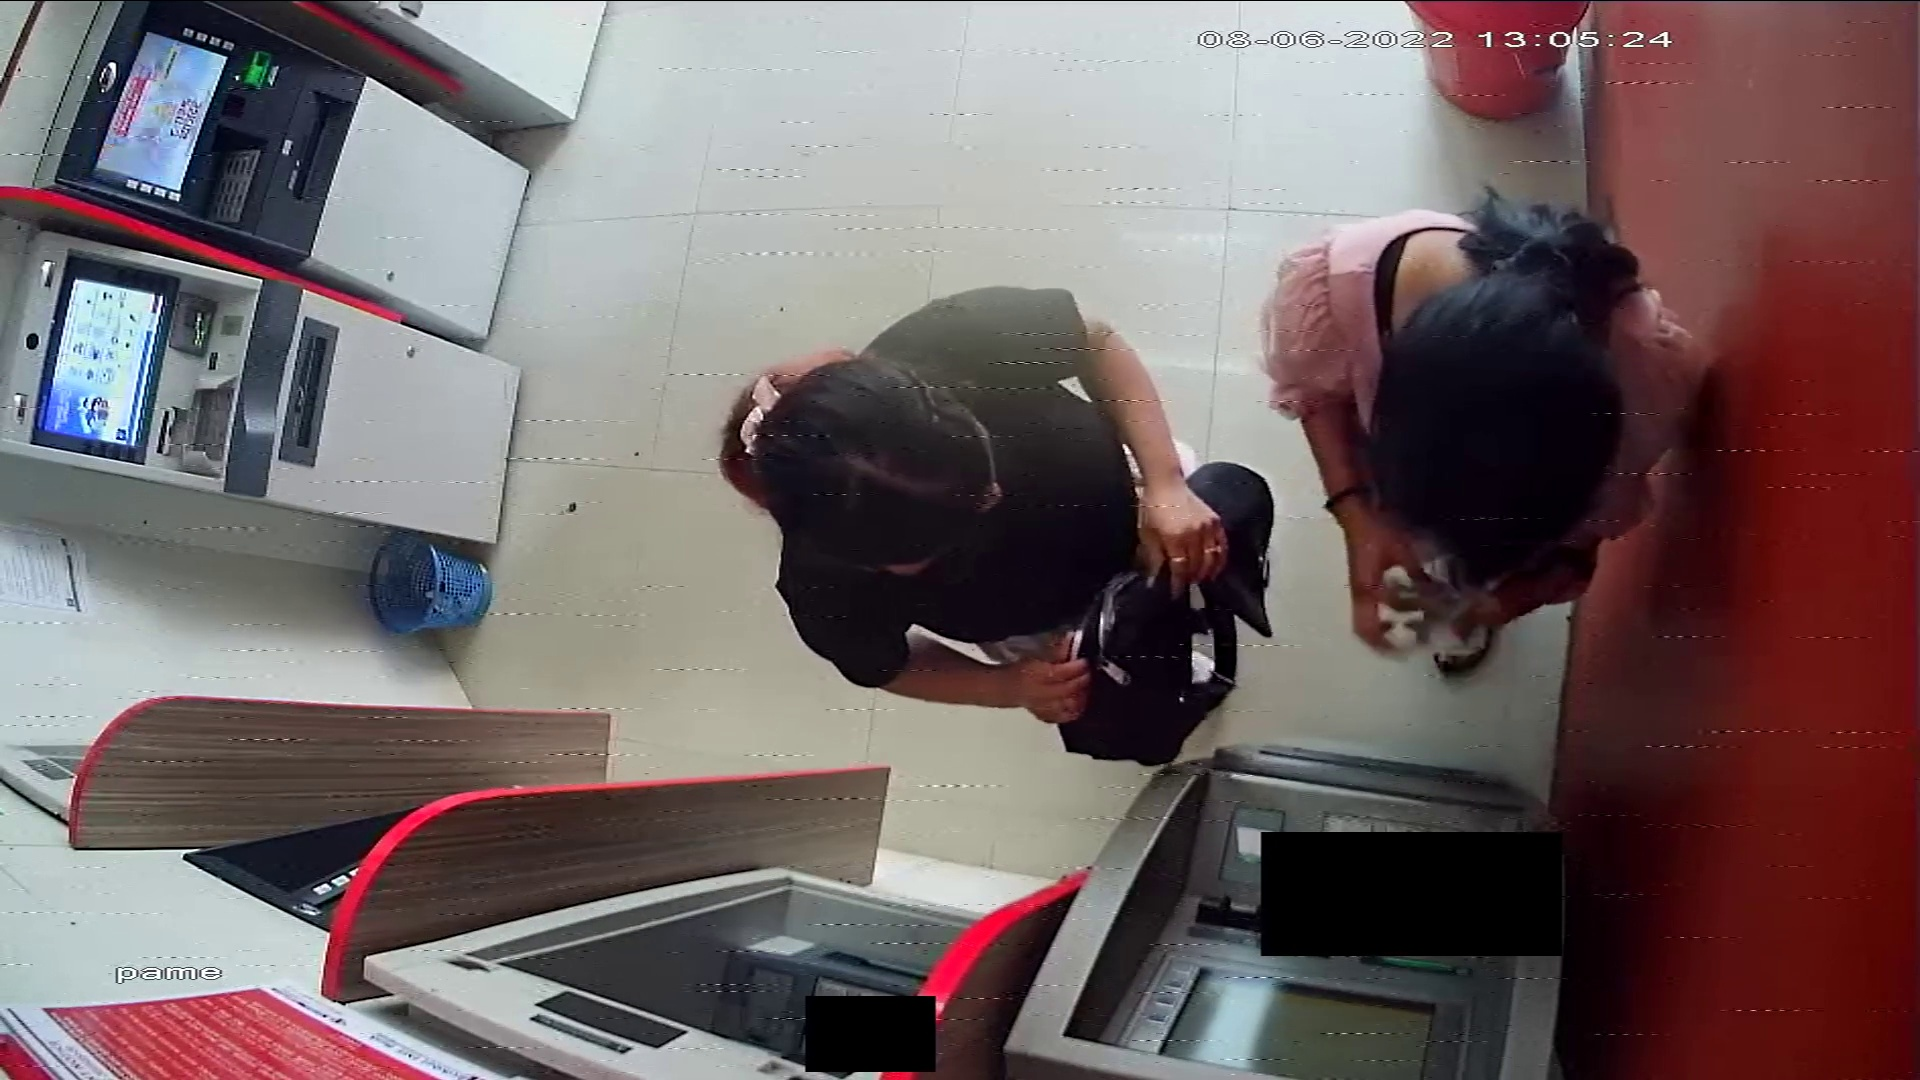person: (719, 283, 1232, 758), (1257, 208, 1724, 683)
